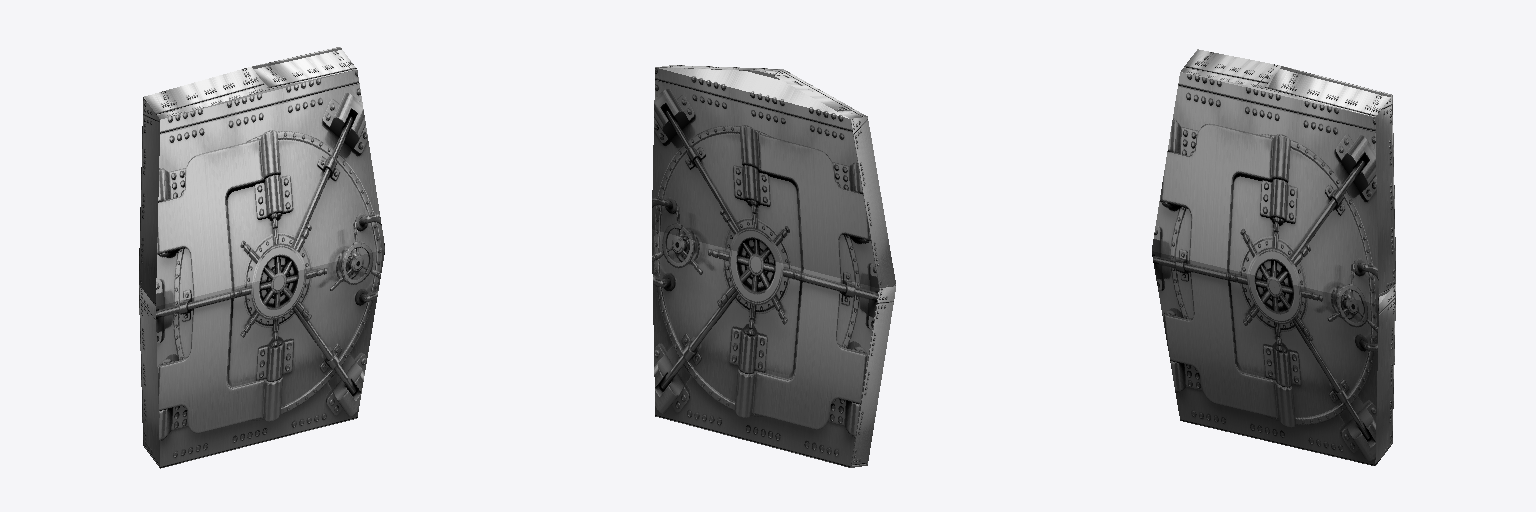
The picture shows the model from 3 angles: view 1: azimuth 30°, elevation 25°; view 2: azimuth 150°, elevation 25°; view 3: azimuth 330°, elevation 25°; orthographic projection.
Parts seen in each view (by area): view 1: Cube.001_Cube.003; view 2: Cube.001_Cube.003; view 3: Cube.001_Cube.003.
Part boxes in pixels (x1,y1,x2,y2): Cube.001_Cube.003: (139, 47, 384, 468); Cube.001_Cube.003: (652, 65, 895, 467); Cube.001_Cube.003: (1152, 49, 1395, 465).
Bounding box in the file's own units: 1.74 × 2.73 × 0.4024.
Materials: 1 (1 with a texture image).